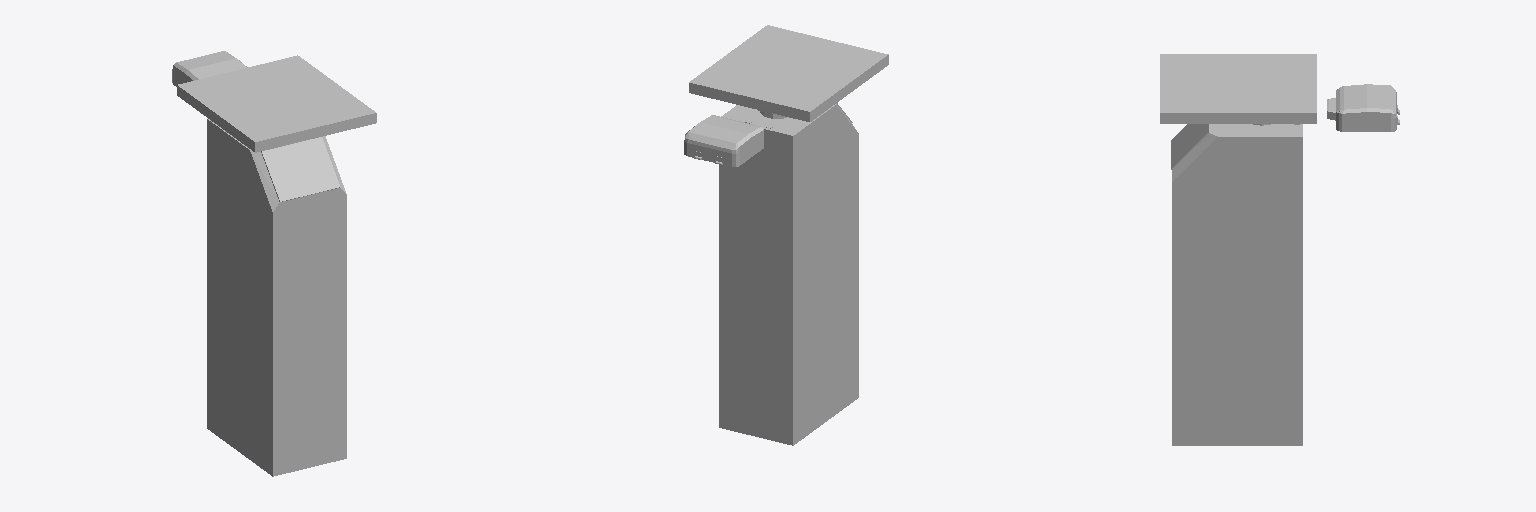
The model's file is LaunchButtonUVs.obj.
The picture shows the model from 3 angles: view 1: azimuth 30°, elevation 25°; view 2: azimuth 150°, elevation 25°; view 3: azimuth 270°, elevation 25°; orthographic projection.
Visible parts, largest first — view 1: LaunchButton Base, pCube1, pCube2, LaunchButton Cover; view 2: LaunchButton Base, pCube1, pCube2, LaunchButton Cover; view 3: LaunchButton Base, pCube2, pCube1, LaunchButton Cover.
Part boxes in pixels (bbox=[...]): LaunchButton Base: bbox=[207, 119, 346, 476]; pCube1: bbox=[177, 70, 315, 152]; pCube2: bbox=[238, 55, 376, 137]; LaunchButton Cover: bbox=[172, 51, 247, 86]; LaunchButton Base: bbox=[719, 103, 858, 445]; pCube1: bbox=[749, 40, 888, 121]; pCube2: bbox=[689, 25, 826, 107]; LaunchButton Cover: bbox=[684, 115, 763, 166]; LaunchButton Base: bbox=[1171, 124, 1302, 445]; pCube2: bbox=[1160, 84, 1316, 123]; pCube1: bbox=[1160, 54, 1316, 83]; LaunchButton Cover: bbox=[1327, 84, 1399, 131].
Bounding box in the file's own units: 4.55 × 12.37 × 7.81.